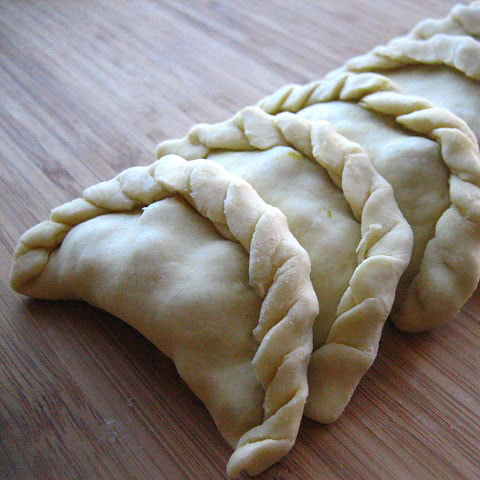Curry Puff: (11, 141, 306, 466), (145, 92, 401, 419), (243, 49, 474, 332)
